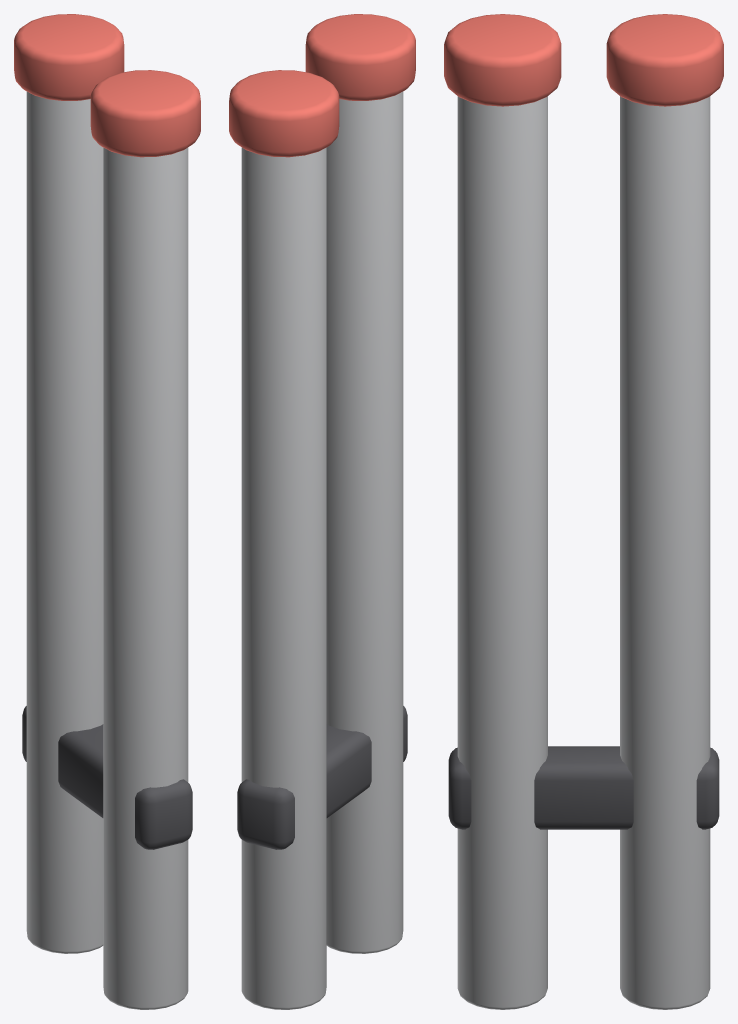
The model's file is Wydech_Podwojny.fbx.
The picture shows the model from 3 angles, left to right: view 1: azimuth 30°, elevation 25°; view 2: azimuth 150°, elevation 25°; view 3: azimuth 270°, elevation 25°; orthographic projection. The views are drawn at different scales.
Visible parts, largest first — view 1: Wydech_Podwojny; view 2: Wydech_Podwojny; view 3: Wydech_Podwojny.
Part boxes in pixels (bbox=[...]): Wydech_Podwojny: bbox=[14, 14, 200, 1009]; Wydech_Podwojny: bbox=[229, 14, 415, 1009]; Wydech_Podwojny: bbox=[444, 14, 723, 1009].
Bounding box in the file's own units: 0.26 × 2.34 × 0.62.
